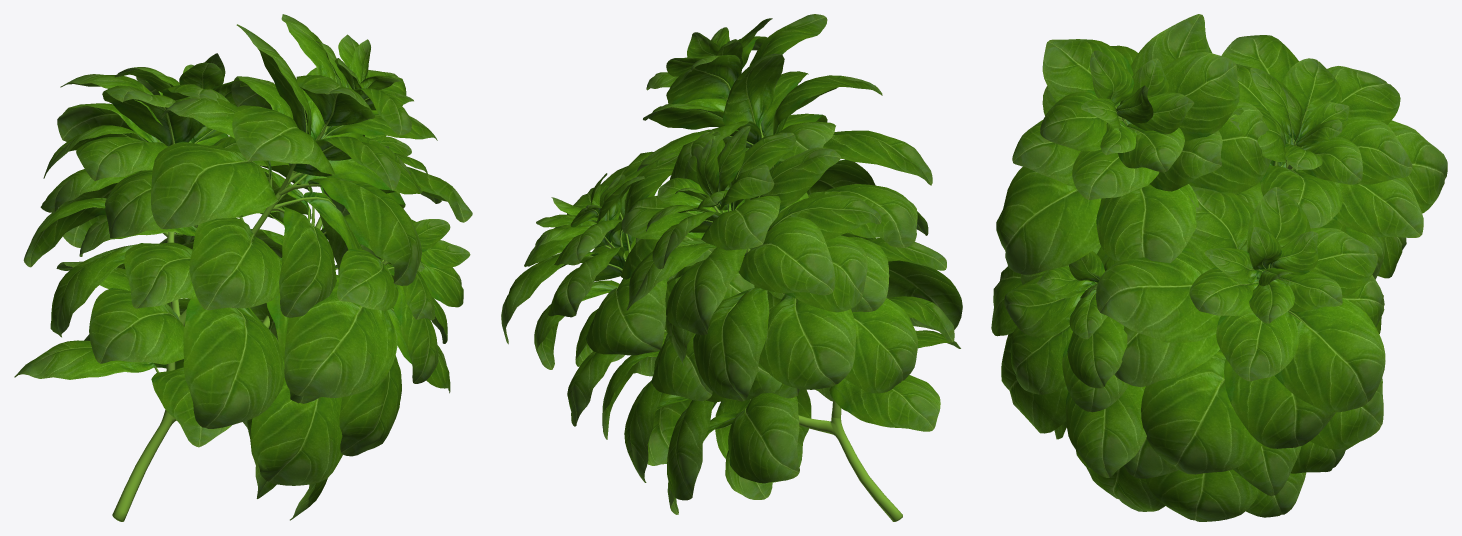
The model's file is basil.fbx.
3 views of the same model, side by side, from view 1: azimuth 30°, elevation 25°; view 2: azimuth 150°, elevation 25°; view 3: azimuth 270°, elevation 25° (orthographic). The views are drawn at different scales.
Visible parts, largest first — view 1: basil; view 2: basil; view 3: basil.
Boxes of the visible parts, x1=… form: basil: x1=14, y1=14, x2=472, y2=521; basil: x1=501, y1=14, x2=962, y2=521; basil: x1=991, y1=14, x2=1447, y2=521.
Size of the model in its own units: 4481 by 4828 by 4124.
